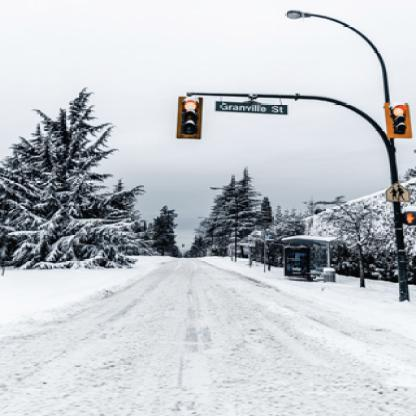trafficlight: (381, 100, 412, 139), (176, 95, 200, 138)
